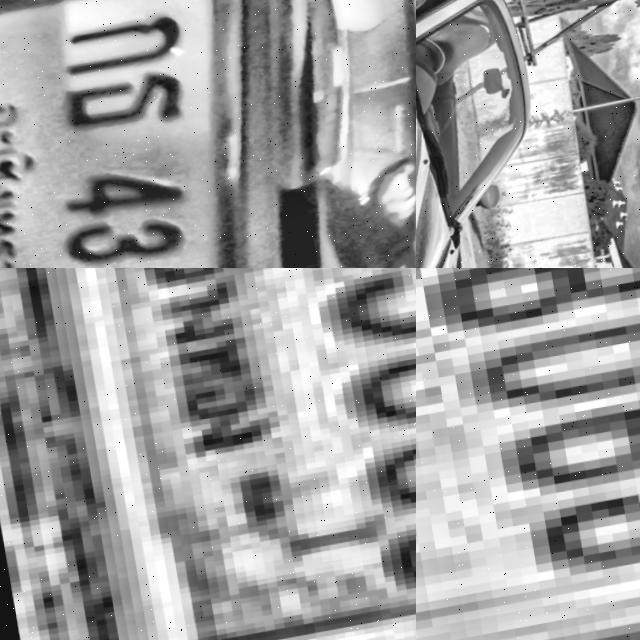license-plate: (7, 268, 416, 640), (416, 268, 640, 640)
